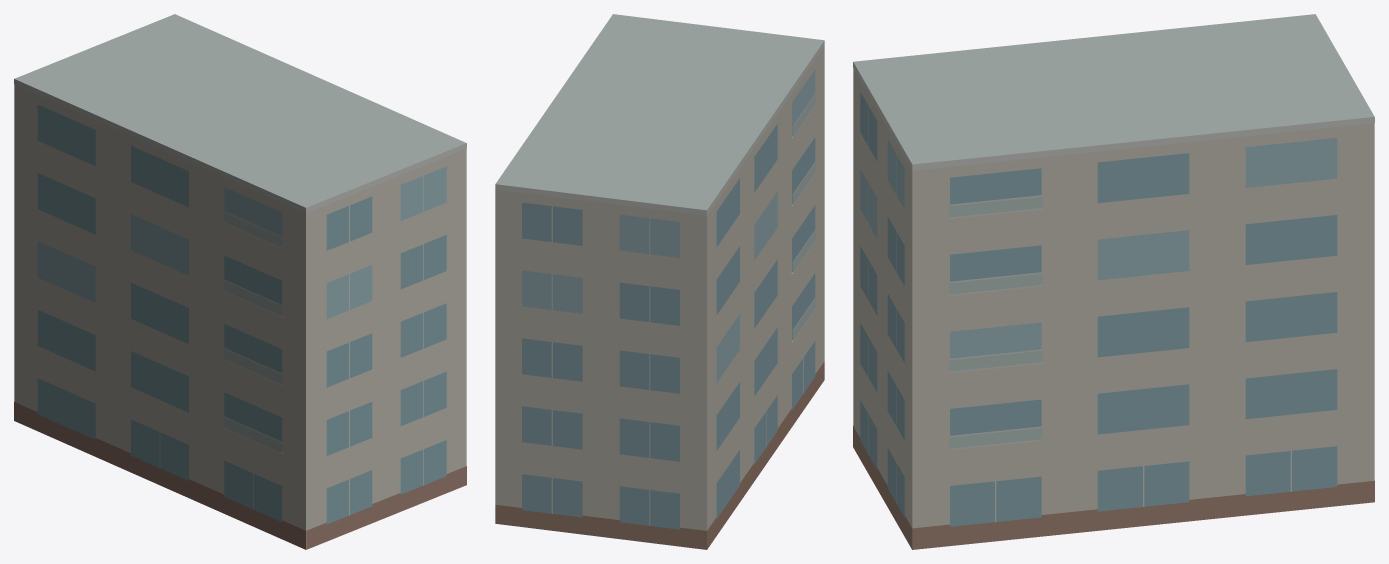
File: survey-upis-32681105.glb
The picture shows the model from 3 angles, left to right: view 1: azimuth 30°, elevation 25°; view 2: azimuth 150°, elevation 25°; view 3: azimuth 270°, elevation 25°; orthographic projection. The views are drawn at different scales.
Parts seen in each view (by area): view 1: survey-upis-32681105.tmp; view 2: survey-upis-32681105.tmp; view 3: survey-upis-32681105.tmp.
Boxes of the visible parts, x1,y1,x2,y2 form: survey-upis-32681105.tmp: (14,14,466,549); survey-upis-32681105.tmp: (495,14,824,549); survey-upis-32681105.tmp: (853,14,1374,549).
Bounding box in the file's own units: 12.82 × 15.3 × 18.78.
